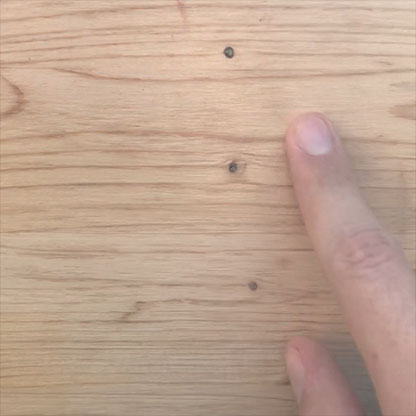fingertip: (276, 103, 348, 173)
